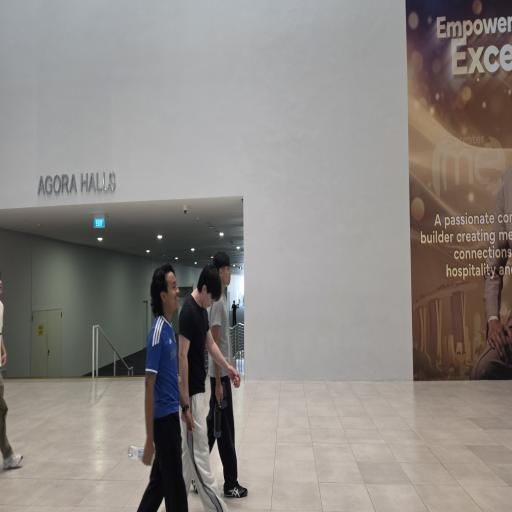person_right: (134, 257, 188, 512), (208, 240, 248, 512), (182, 256, 216, 512)
